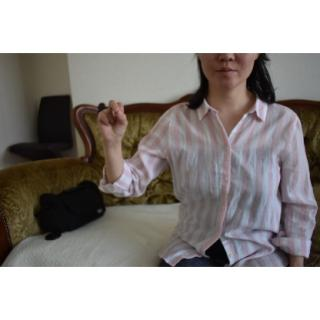QAAF: (90, 96, 132, 142)
